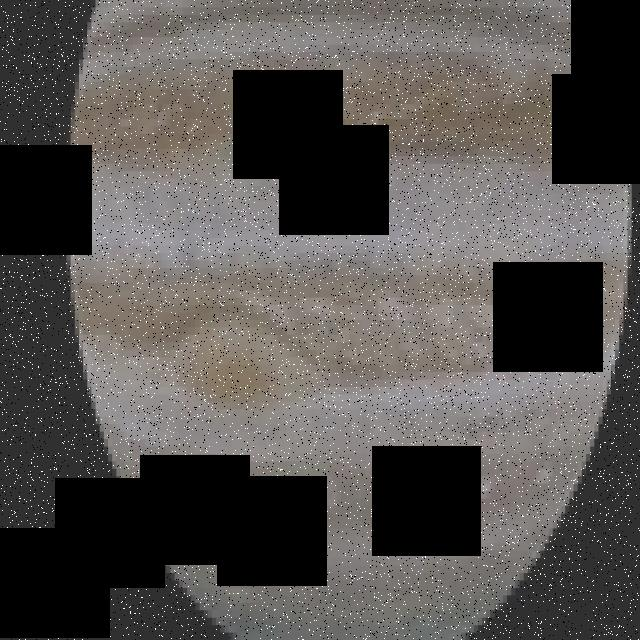Jupiter: (66, 0, 636, 640)
